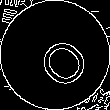O_NW: (22, 22, 88, 88)
